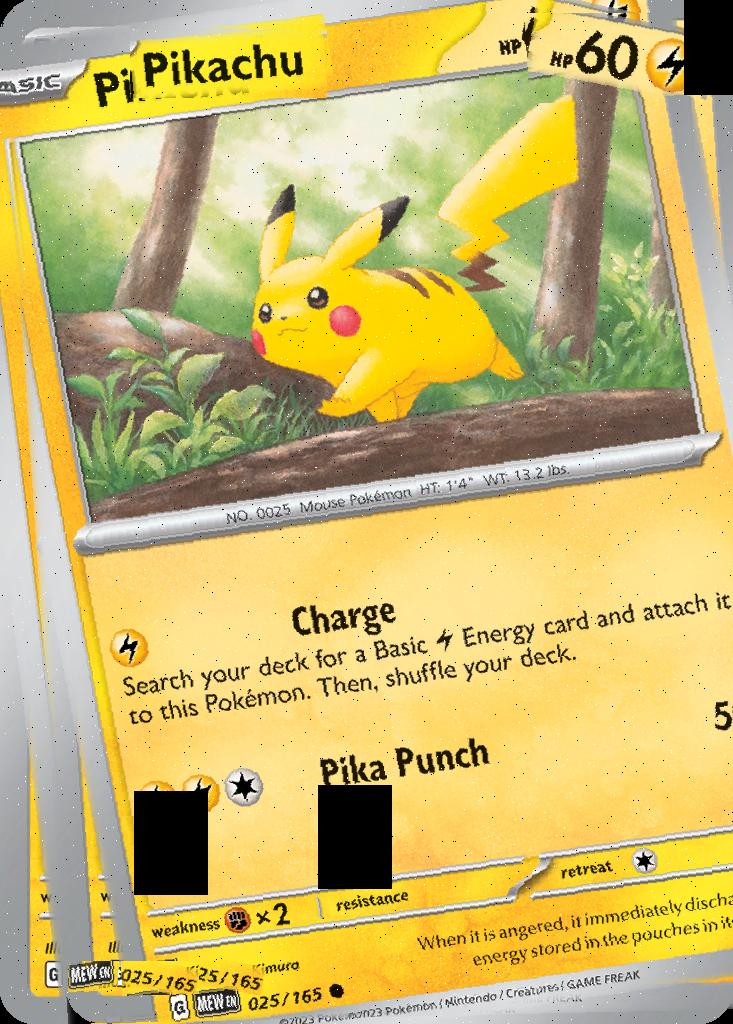card: (0, 0, 733, 1024)
hp: (524, 14, 713, 105)
name: (130, 26, 327, 98)
set num: (122, 961, 200, 996)
set symbol: (68, 962, 119, 993)
